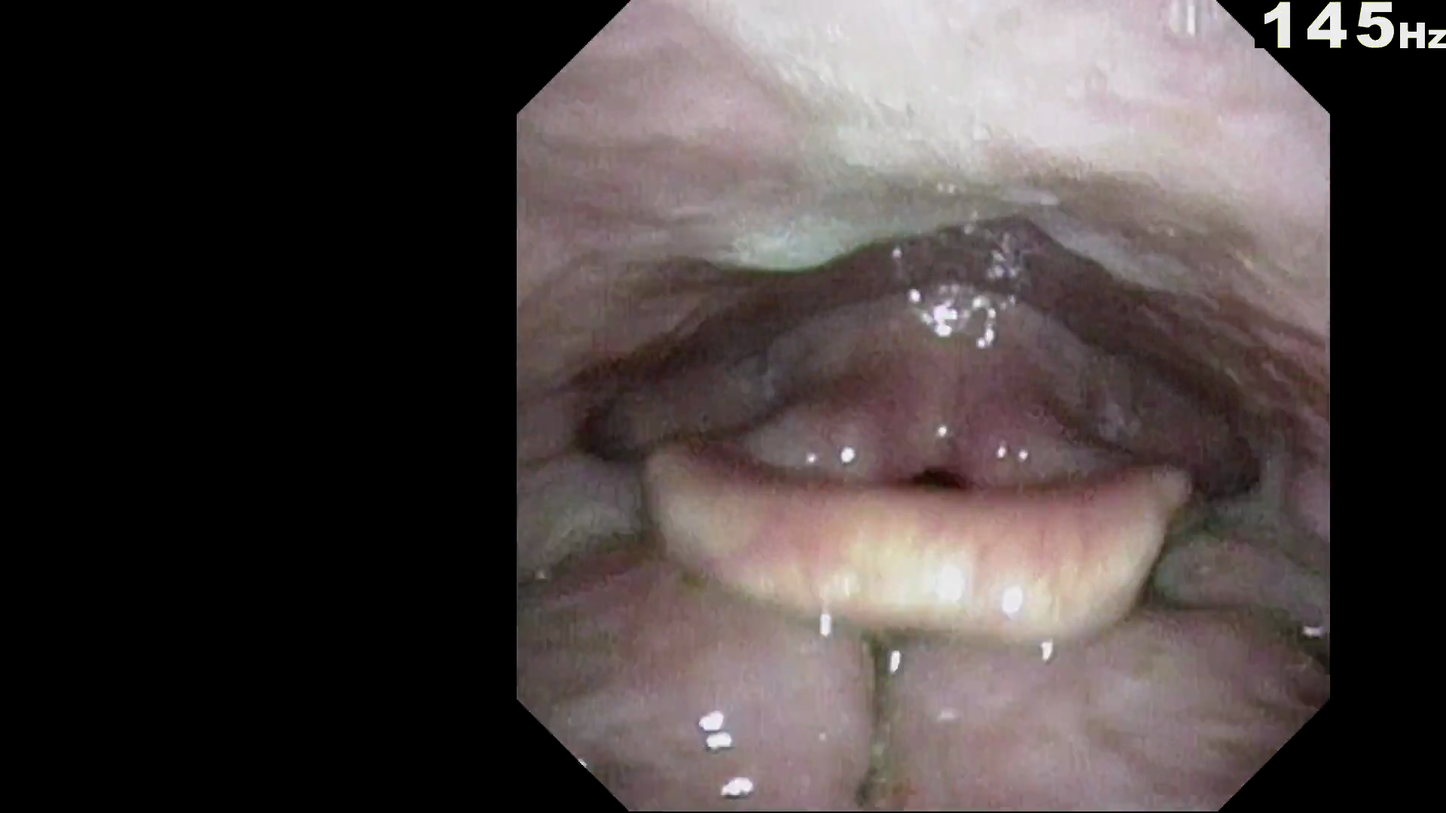epiglottis: (683, 456, 1185, 568)
